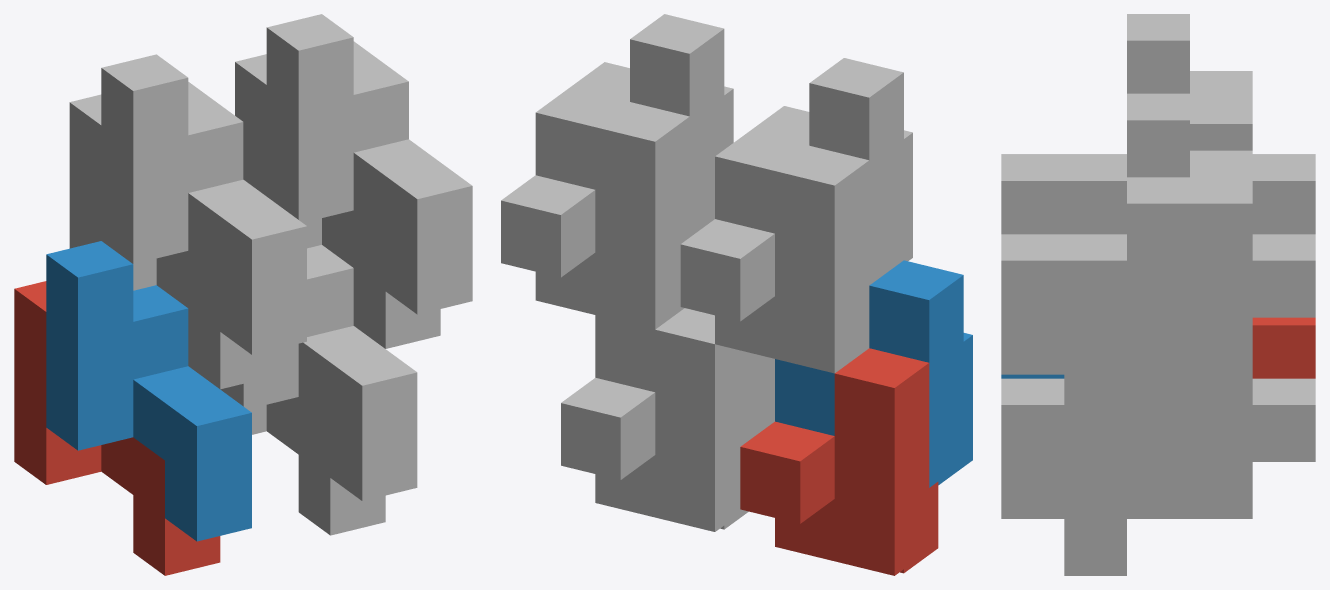
File: tiling.obj
3 renders of one model, left to right at view 1: azimuth 30°, elevation 25°; view 2: azimuth 150°, elevation 25°; view 3: azimuth 270°, elevation 25°, orthographic. The views are drawn at different scales.
Visible parts, largest first — view 1: copy_1_domain_8, copy_1_domain_4, copy_1_domain_2, copy_1_domain_6, copy_1_domain_1, copy_1_domain_3, copy_1_domain_7, copy_1_domain_5; view 2: copy_1_domain_1, copy_1_domain_3, copy_1_domain_7, copy_1_domain_5, copy_1_domain_4, copy_1_domain_8, copy_1_domain_2, copy_1_domain_6; view 3: copy_1_domain_8, copy_1_domain_7, copy_1_domain_5, copy_1_domain_4, copy_1_domain_6, copy_1_domain_3, copy_1_domain_1.
Part boxes in pixels (<box>): copy_1_domain_8: <box>266,14,472,314</box>; copy_1_domain_4: <box>101,54,306,354</box>; copy_1_domain_2: <box>46,241,251,541</box>; copy_1_domain_6: <box>220,245,417,500</box>; copy_1_domain_1: <box>14,281,220,575</box>; copy_1_domain_3: <box>69,94,275,389</box>; copy_1_domain_7: <box>235,54,440,348</box>; copy_1_domain_5: <box>248,397,385,535</box>; copy_1_domain_1: <box>740,348,938,575</box>; copy_1_domain_3: <box>680,145,869,373</box>; copy_1_domain_7: <box>501,102,689,329</box>; copy_1_domain_5: <box>561,308,749,531</box>; copy_1_domain_4: <box>715,58,912,285</box>; copy_1_domain_8: <box>535,14,733,237</box>; copy_1_domain_2: <box>775,260,972,487</box>; copy_1_domain_6: <box>595,315,774,439</box>; copy_1_domain_8: <box>1001,93,1252,374</box>; copy_1_domain_7: <box>1064,150,1315,431</box>; copy_1_domain_5: <box>1064,378,1315,575</box>; copy_1_domain_4: <box>1001,14,1252,234</box>; copy_1_domain_6: <box>1001,374,1252,518</box>; copy_1_domain_3: <box>1190,71,1315,234</box>; copy_1_domain_1: <box>1252,317,1315,378</box>.
Bounding box in the file's own units: 6 × 8 × 5.
